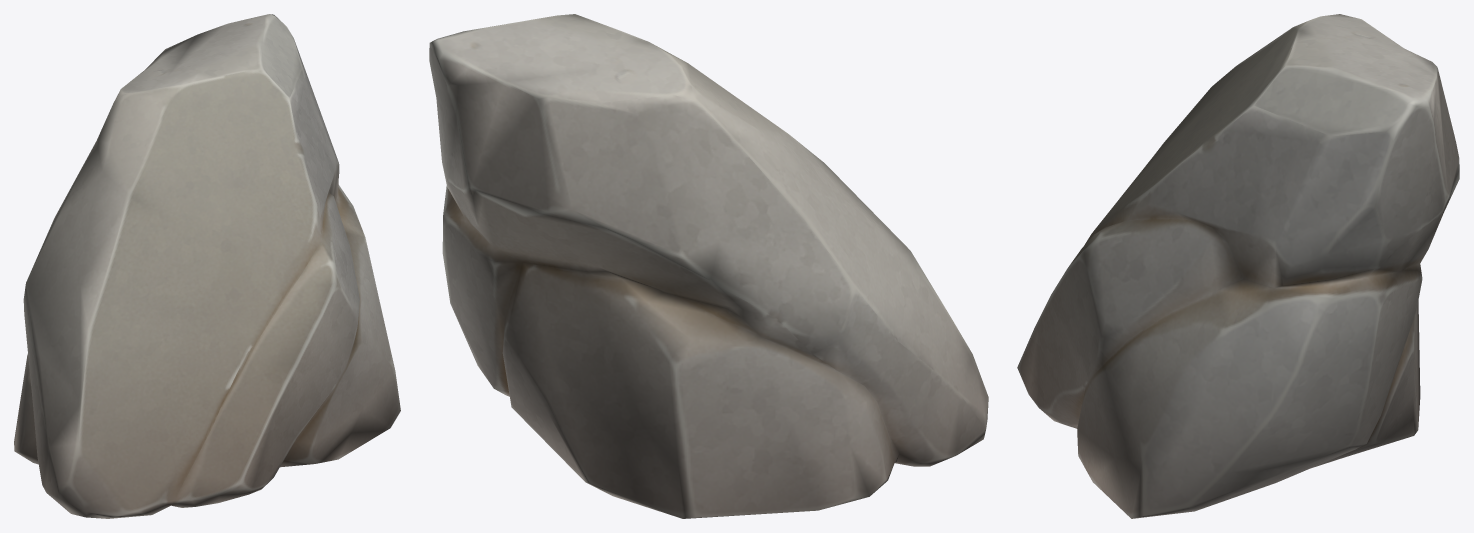
File: rocks_04.glb
3 renders of one model, left to right at view 1: azimuth 30°, elevation 25°; view 2: azimuth 150°, elevation 25°; view 3: azimuth 270°, elevation 25°, orthographic. The views are drawn at different scales.
Visible parts, largest first — view 1: SM_Rocks_04_RocksStylized_M_0; view 2: SM_Rocks_04_RocksStylized_M_0; view 3: SM_Rocks_04_RocksStylized_M_0.
Boxes of the visible parts, bbox=[...] form: SM_Rocks_04_RocksStylized_M_0: bbox=[14, 14, 400, 518]; SM_Rocks_04_RocksStylized_M_0: bbox=[429, 14, 988, 518]; SM_Rocks_04_RocksStylized_M_0: bbox=[1017, 14, 1459, 518].
Size of the model in its own units: 19 by 16.95 by 15.86.
1 material, 1 textured.
